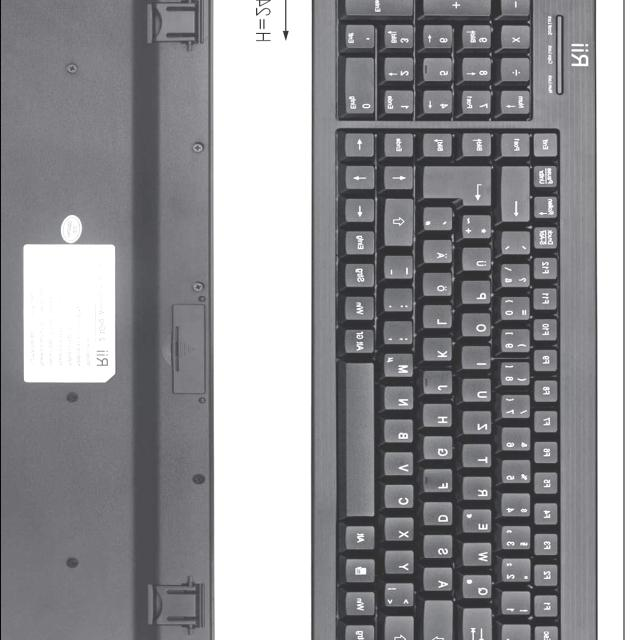0: (501, 298, 533, 324)
1: (501, 593, 533, 619)
2: (502, 560, 534, 586)
3: (502, 527, 534, 553)
4: (502, 495, 534, 520)
5: (502, 461, 534, 487)
6: (502, 429, 534, 455)
7: (501, 396, 533, 421)
8: (500, 363, 533, 389)
9: (501, 330, 533, 357)
a: (424, 569, 456, 595)
accent: (502, 233, 533, 258)
ae: (424, 242, 456, 266)
alt-left: (346, 527, 378, 553)
altgr-right: (346, 330, 378, 357)
b: (385, 421, 417, 447)
c: (386, 486, 418, 512)
caret: (502, 626, 534, 640)
comma: (384, 323, 416, 349)
d: (424, 504, 456, 529)
del: (502, 168, 534, 225)
e: (463, 511, 495, 537)
enter: (423, 168, 495, 210)
f: (425, 471, 455, 495)
g: (424, 438, 456, 463)
h: (424, 405, 455, 430)
hash: (424, 209, 456, 234)
i: (463, 347, 493, 372)
j: (424, 372, 456, 397)
k: (424, 339, 456, 365)
keyboard: (308, 0, 605, 640)
l: (424, 307, 455, 331)
less: (385, 584, 418, 610)
m: (385, 355, 417, 381)
minus: (385, 257, 417, 283)
n: (386, 387, 418, 413)
o: (463, 315, 495, 341)
oe: (424, 275, 456, 300)
p: (462, 282, 494, 308)
plus: (463, 217, 495, 243)
point: (385, 290, 417, 316)
q: (463, 576, 495, 602)
r: (463, 478, 495, 503)
s: (424, 536, 456, 562)
shift-left: (386, 618, 417, 640)
shift-lock: (425, 602, 457, 640)
shift-right: (385, 199, 417, 249)
space: (344, 363, 378, 519)
ss: (501, 265, 533, 291)
strg-left: (346, 625, 378, 640)
strg-right: (346, 264, 378, 290)
t: (463, 446, 495, 470)
tab: (463, 610, 496, 640)
u: (463, 380, 495, 405)
ue: (462, 249, 494, 275)
v: (385, 454, 417, 479)
w: (463, 545, 496, 570)
x: (386, 518, 418, 544)
y: (386, 552, 418, 578)
z: (463, 413, 495, 438)
